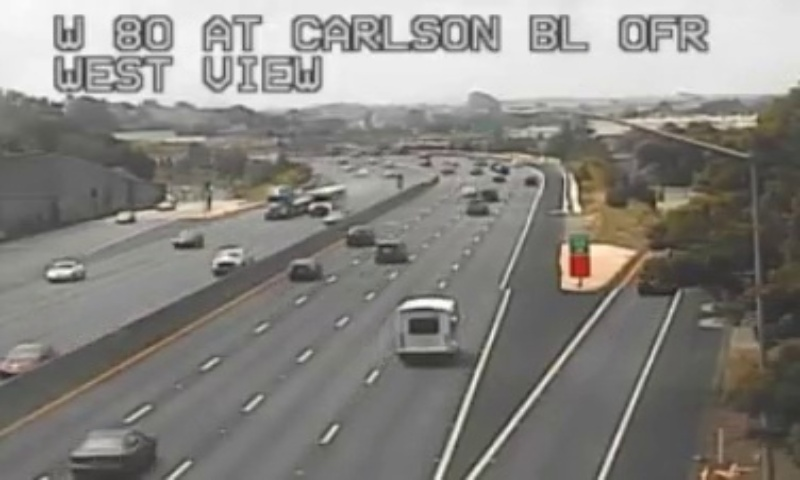bus: (395, 297, 457, 357)
car: (70, 429, 157, 470), (374, 240, 404, 265), (289, 258, 321, 281)
